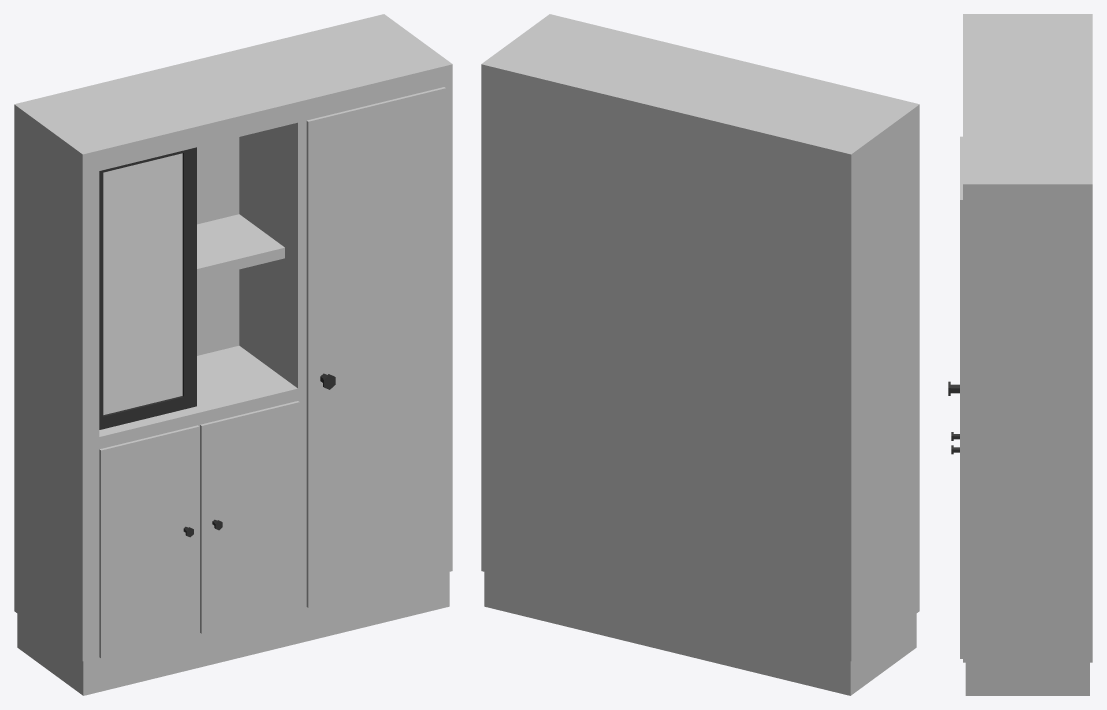
Rendered from cabinet.fbx.
3 views of the same model, side by side, from view 1: azimuth 30°, elevation 25°; view 2: azimuth 150°, elevation 25°; view 3: azimuth 270°, elevation 25° (orthographic). The views are drawn at different scales.
Visible parts, largest first — view 1: H_Cabinet_1; view 2: H_Cabinet_1; view 3: H_Cabinet_1.
Part boxes in pixels (x1=…): H_Cabinet_1: x1=14, y1=14, x2=452, y2=695; H_Cabinet_1: x1=481, y1=14, x2=919, y2=695; H_Cabinet_1: x1=948, y1=14, x2=1092, y2=695.
Bounding box in the file's own units: 862 × 308 × 1208.
